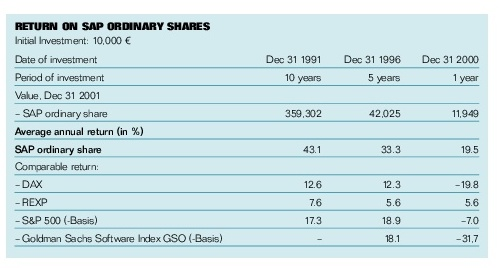table: (0, 0, 500, 268)
